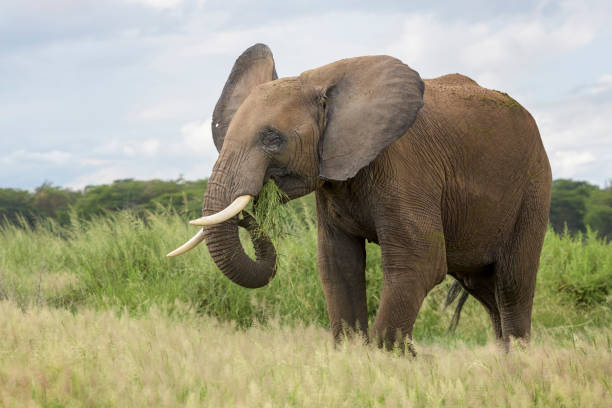africanelephant: (166, 29, 428, 303)
